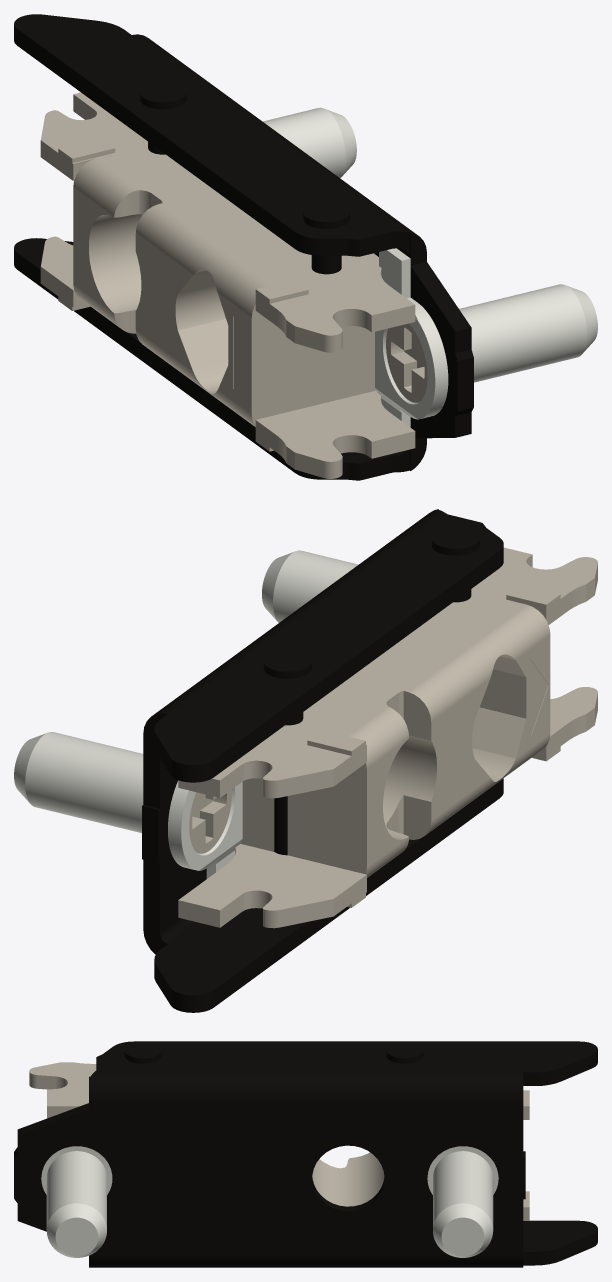
3 renders of one model, top to bottom at view 1: azimuth 30°, elevation 25°; view 2: azimuth 150°, elevation 25°; view 3: azimuth 270°, elevation 25°, orthographic. The views are drawn at different scales.
Parts seen in each view (by area): view 1: bau0027290239; view 2: bau0027290239; view 3: bau0027290239.
Part boxes in pixels (x1,y1,x2,y2): bau0027290239: (14,14,597,480); bau0027290239: (14,509,597,1012); bau0027290239: (14,1041,597,1267).
Bounding box in the file's own units: 23 × 18.65 × 48.4.
